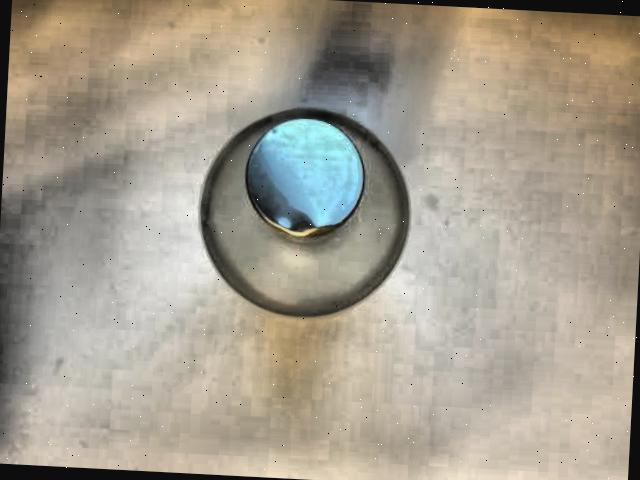Bottles: (168, 82, 434, 348)
